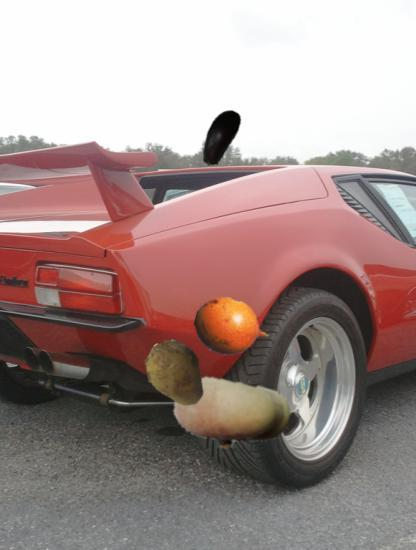Eggplant: (188, 106, 251, 169)
Granadilla: (194, 289, 272, 367)
Peach: (172, 355, 290, 473)
Potato: (140, 338, 212, 410)
